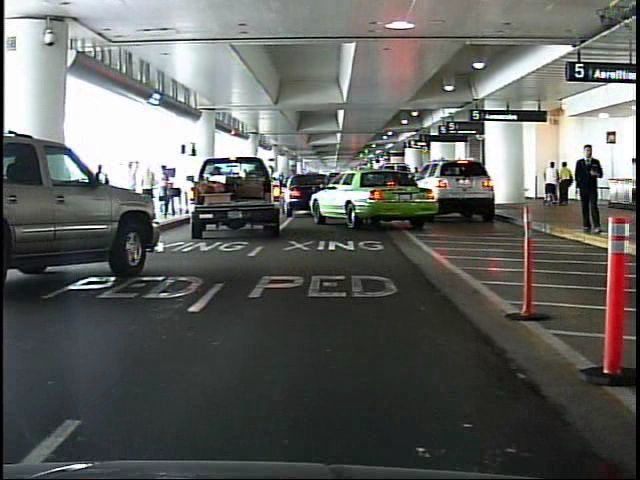person: (574, 139, 610, 241), (159, 163, 181, 223), (544, 158, 560, 207), (559, 159, 572, 209)
